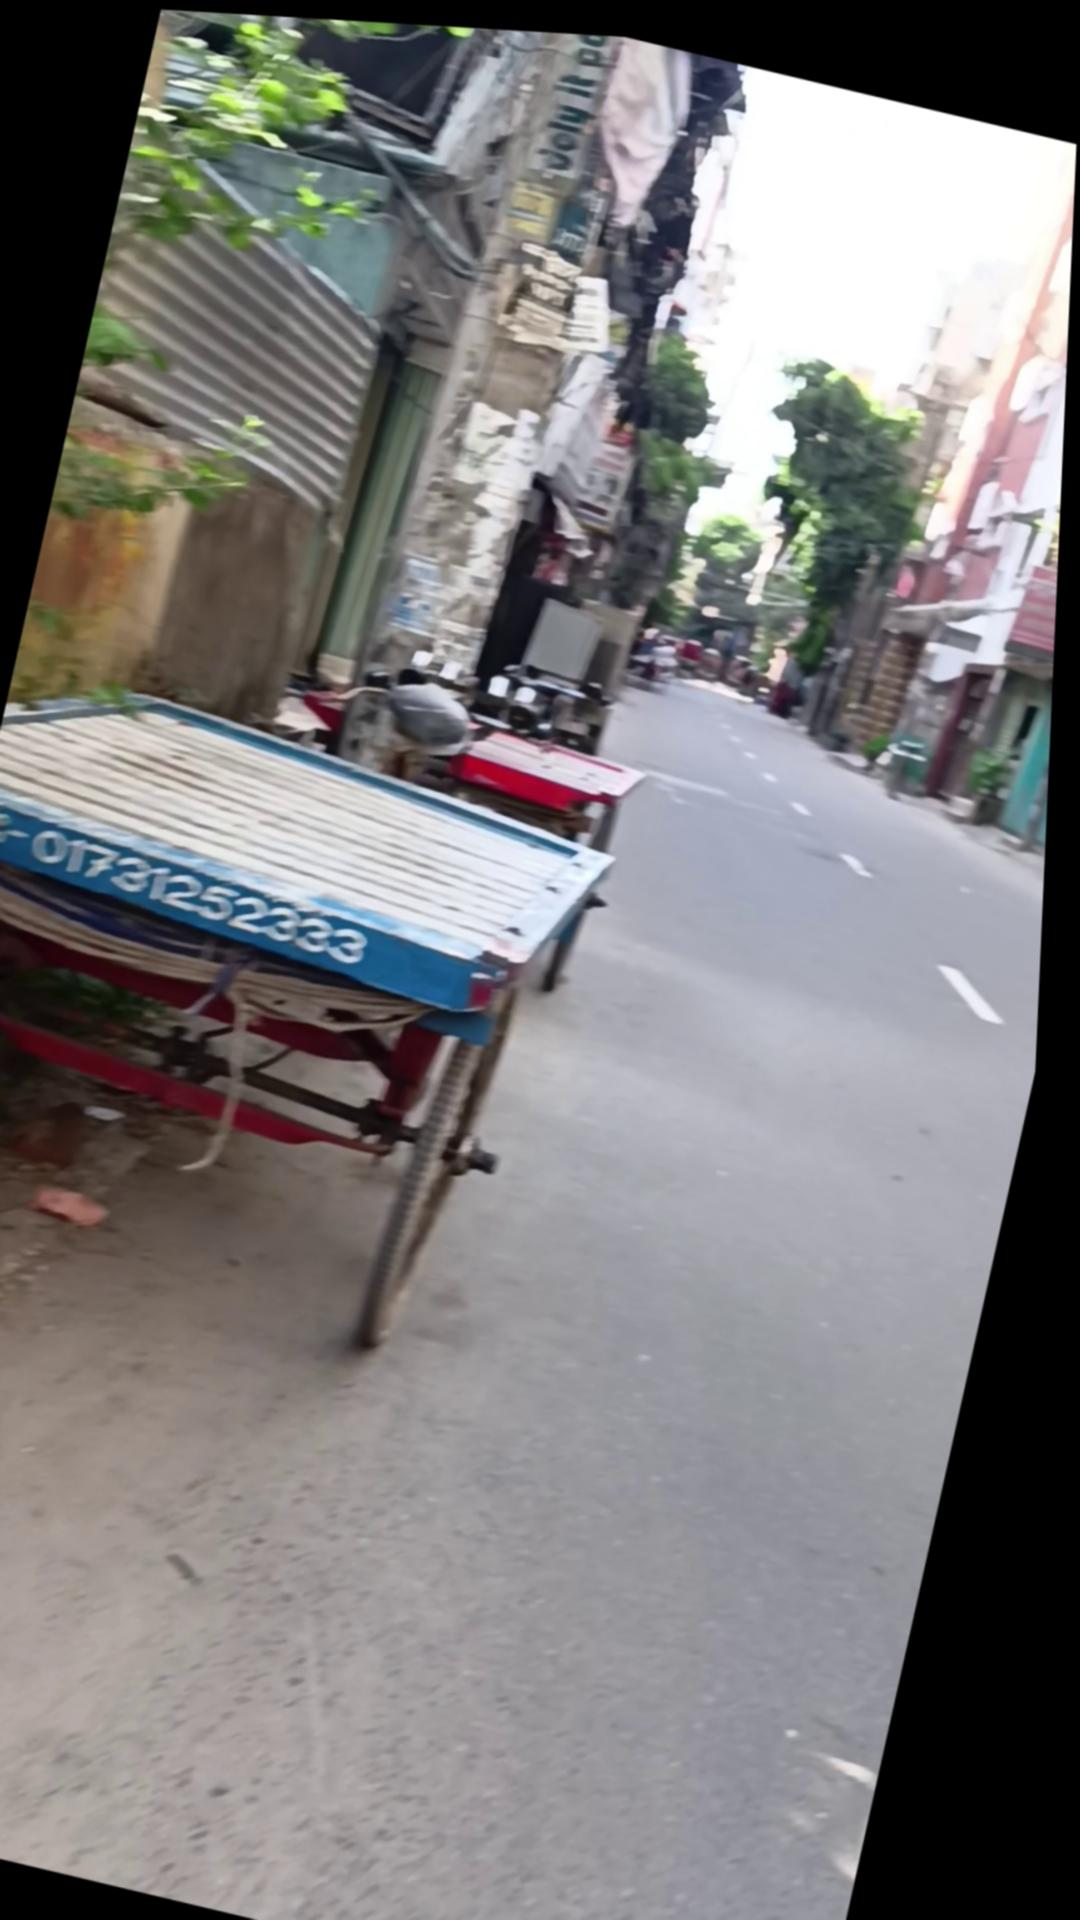Fallen-tree: (963, 729, 1026, 818), (864, 716, 899, 765)
Fence: (0, 582, 658, 1381)
Light-pole: (716, 335, 960, 700), (568, 305, 761, 625)
Obstacle: (12, 125, 423, 769)
